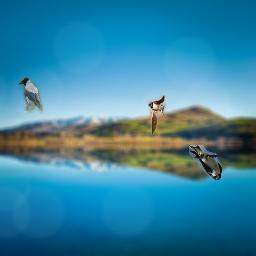Crow: (19, 77, 43, 114)
Swallow: (189, 145, 222, 180), (148, 95, 171, 135)
